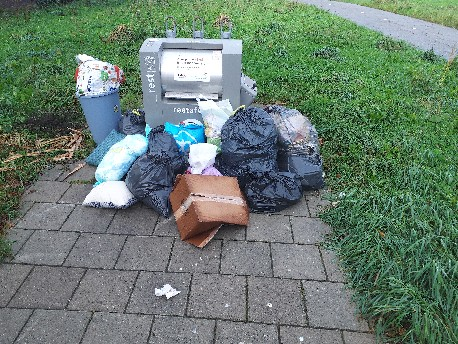Container: (145, 34, 250, 112)
Papier: (186, 165, 235, 233)
Rest: (85, 73, 146, 142), (264, 100, 321, 159), (137, 135, 181, 204), (222, 119, 277, 173), (286, 151, 337, 198), (246, 180, 310, 217), (91, 153, 125, 206), (93, 112, 131, 155), (106, 137, 142, 176)
